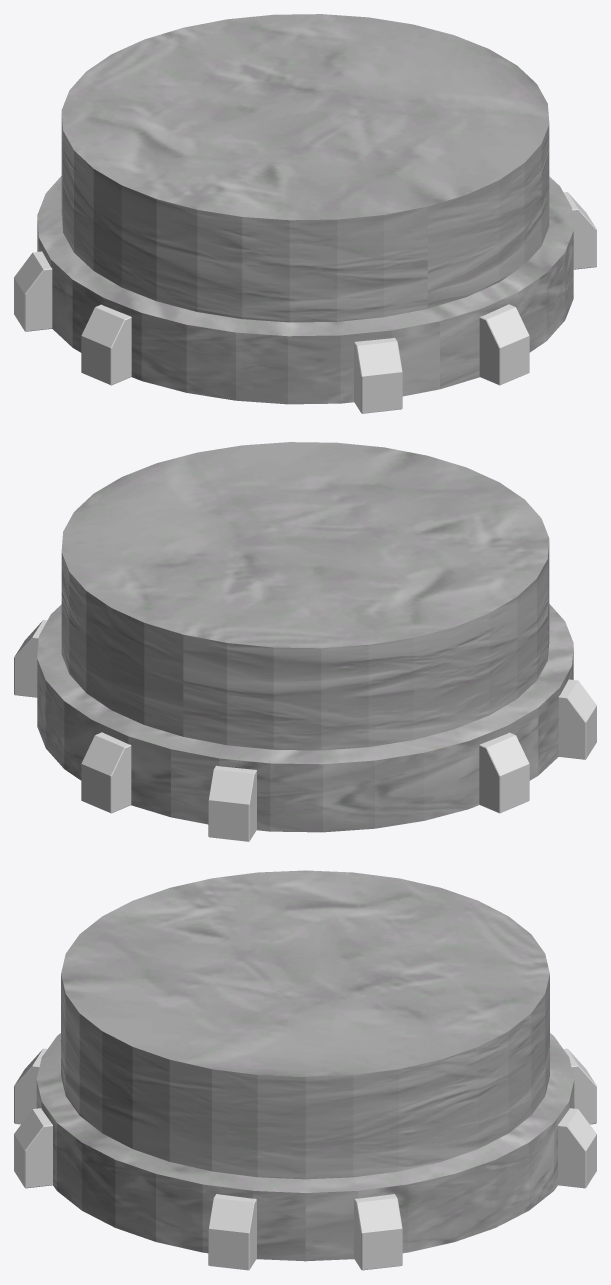
Rendered from dock.fbx.
3 renders of one model, top to bottom at view 1: azimuth 30°, elevation 25°; view 2: azimuth 150°, elevation 25°; view 3: azimuth 270°, elevation 25°, orthographic.
Parts seen in each view (by area): view 1: 柱体.023, 主体.001; view 2: 柱体.023, 主体.001; view 3: 柱体.023, 主体.001.
Boxes of the visible parts, x1,y1,x2,y2 form: 柱体.023: [37, 14, 573, 404]; 主体.001: [14, 192, 596, 413]; 柱体.023: [37, 442, 573, 832]; 主体.001: [14, 620, 596, 841]; 柱体.023: [36, 870, 574, 1261]; 主体.001: [14, 1048, 596, 1270].
Bounding box in the file's own units: 1.55 × 0.68 × 1.55.
Materials: 1 (1 with a texture image).
